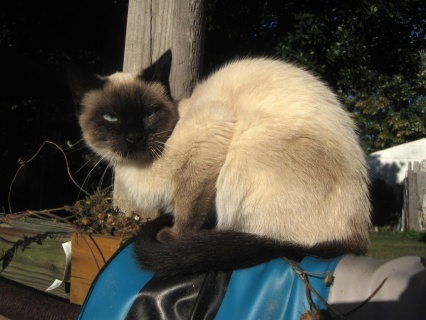Cat: (62, 46, 375, 277)
